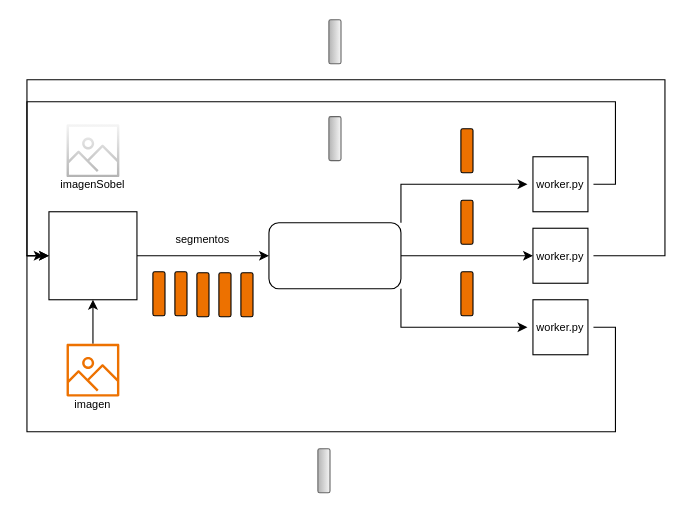
This 693x512 diagram has some shape labels left out. Here are the shapes that lost their labels. From the top down, the box of each, then its label:
(48, 211, 137, 300): server.py
(268, 222, 401, 289): queue
